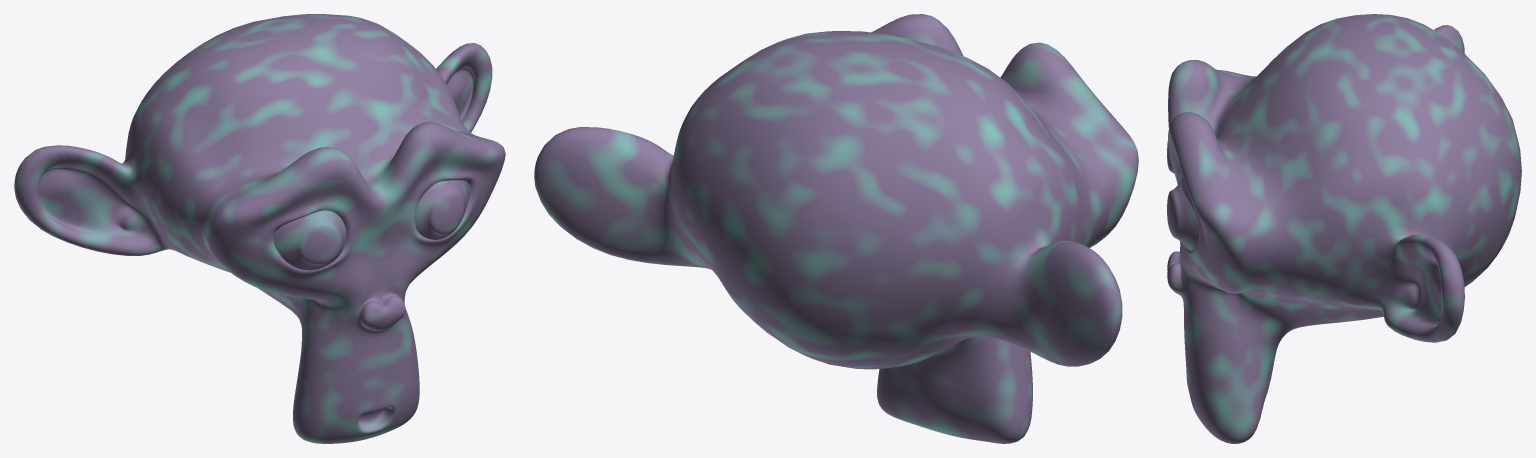
Rendered from monke.glb.
The picture shows the model from 3 angles, left to right: view 1: azimuth 30°, elevation 25°; view 2: azimuth 150°, elevation 25°; view 3: azimuth 270°, elevation 25°; orthographic projection. The views are drawn at different scales.
Visible parts, largest first — view 1: low; view 2: low; view 3: low.
Boxes of the visible parts, box(x1,y1,x2,y2) form: low: box(14, 14, 505, 443); low: box(534, 14, 1138, 443); low: box(1167, 14, 1521, 443).
Bounding box in the file's own units: 2.66 × 1.91 × 1.6.
1 material, 1 textured.
